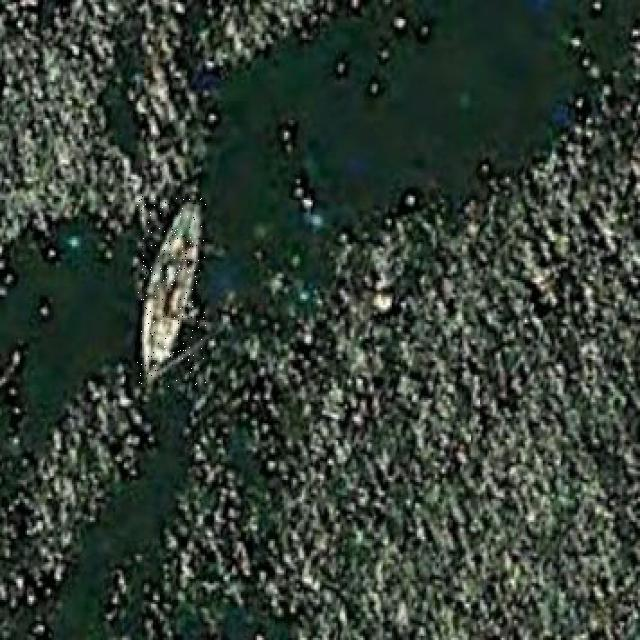boat: (136, 196, 206, 387)
